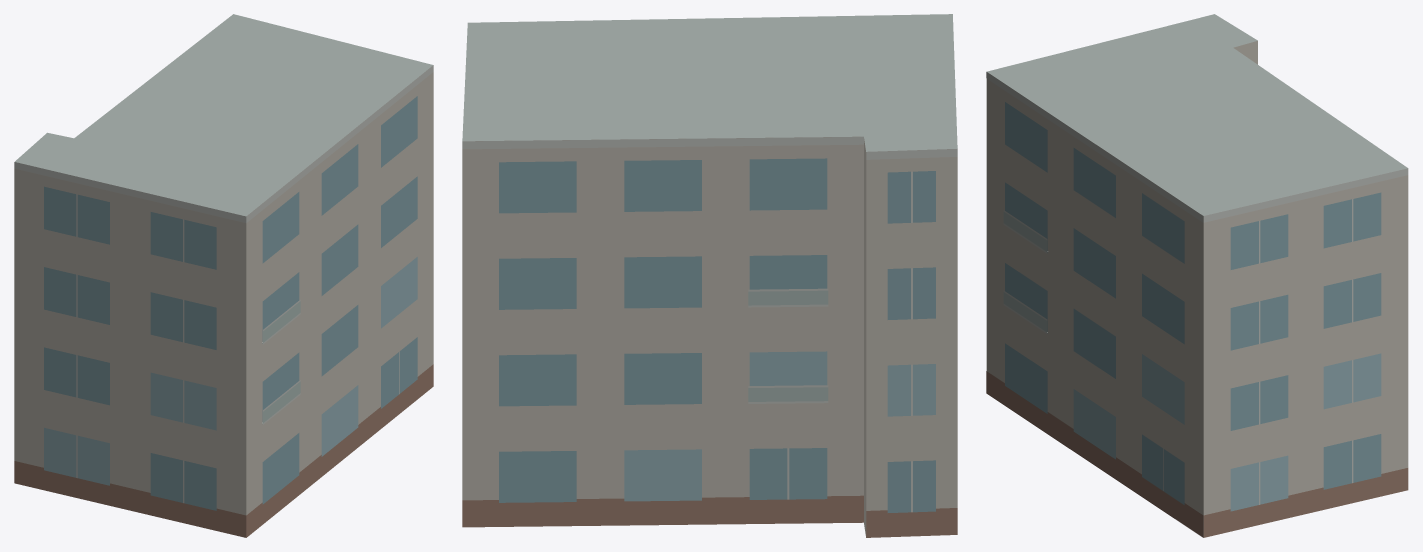
Rendered from survey-upis-32907350.glb.
3 views of the same model, side by side, from view 1: azimuth 30°, elevation 25°; view 2: azimuth 150°, elevation 25°; view 3: azimuth 270°, elevation 25° (orthographic). The views are drawn at different scales.
Parts seen in each view (by area): view 1: survey-upis-32907350.tmp; view 2: survey-upis-32907350.tmp; view 3: survey-upis-32907350.tmp.
Part boxes in pixels (x1,y1,x2,y2): survey-upis-32907350.tmp: (14, 14, 433, 537); survey-upis-32907350.tmp: (462, 14, 957, 537); survey-upis-32907350.tmp: (986, 14, 1408, 537).
Size of the model in its own units: 15.63 by 11.6 by 13.79.
